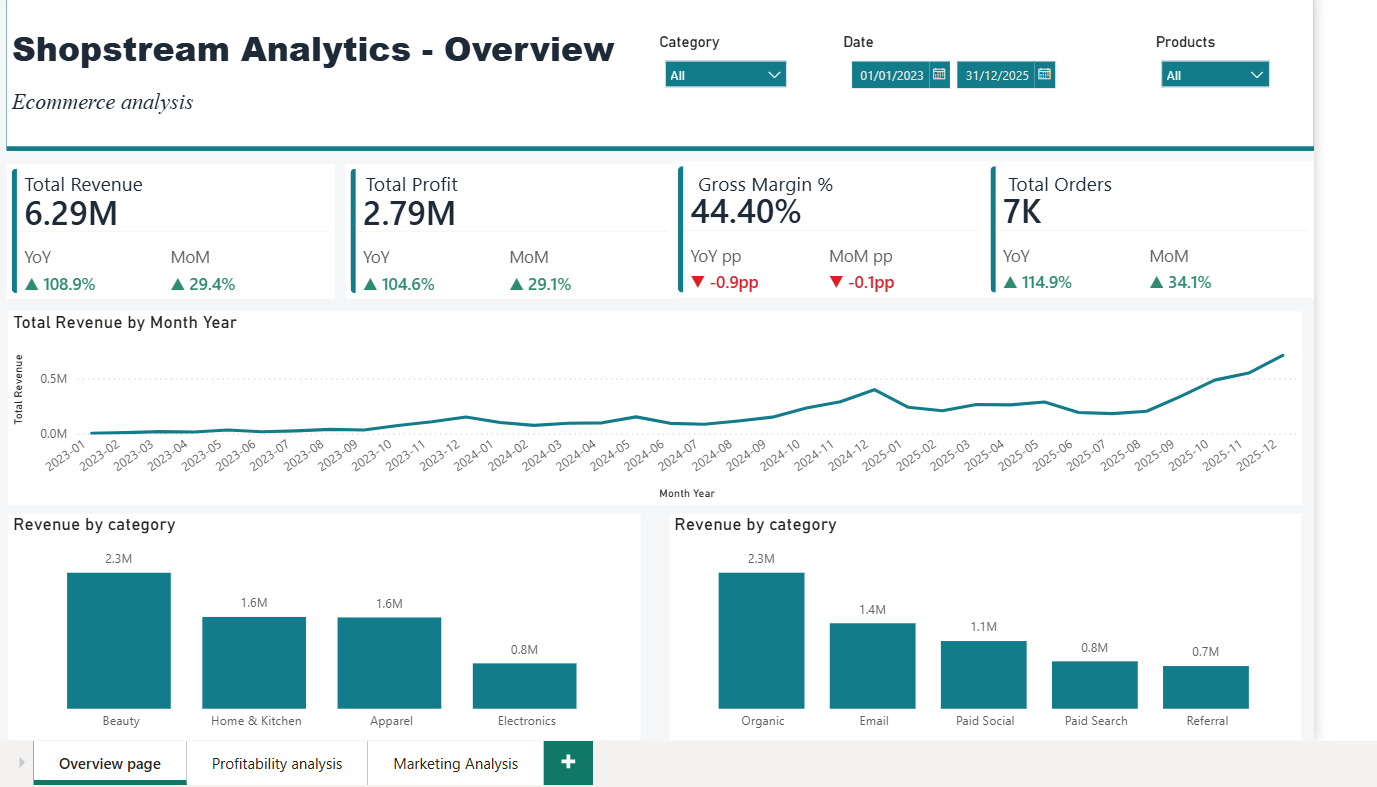

Layout of this report page (visuals, bound fields, positions):
{"tool":"powerbi","page":{"name":"Overview page","canvas":[1280,720],"ordinal":0},"visuals":[{"type":"cardVisual","title":"Total Revenue","fields":{"Data":["_Measures.Total Orders"]},"box":[963.1,160.8,316.6,132.3],"z":0},{"type":"cardVisual","title":"Total Revenue","fields":{"Data":["_Measures.Gross Margin %"]},"box":[661.6,160.8,301.5,132.3],"z":1000},{"type":"cardVisual","title":"Total Revenue","fields":{"Data":["_Measures.Total Profit"]},"box":[345,162.5,316.6,130.6],"z":2000},{"type":"cardVisual","title":"Total Revenue","fields":{"Data":["_Measures.Total Revenue"]},"box":[18.4,162.5,316.6,130.6],"z":3000},{"type":"shape","box":[18.6,0,1261.4,150],"z":4000},{"type":"textbox","box":[30.2,163.8,141.7,48.8],"z":5000},{"type":"shape","box":[18.6,0,1261.4,146],"z":6000},{"type":"textbox","box":[18.6,24.4,638.8,61.6],"z":7000},{"type":"textbox","box":[18.6,86,341.5,40.7],"z":8000},{"type":"textbox","box":[979.9,164.1,142.4,48.6],"z":9000},{"type":"textbox","box":[680,164.1,140.7,48.6],"z":10000},{"type":"textbox","box":[360.1,164.1,142.4,48.6],"z":11000},{"type":"clusteredColumnChart","title":" Revenue by category","fields":{"Category":["clean_categories.category_name"],"Y":["_Measures.Total Revenue"]},"box":[19.3,500.7,610.5,218.4],"z":12000},{"type":"clusteredColumnChart","title":" Revenue by category","fields":{"Y":["_Measures.Total Revenue"],"Category":["clean_orders.channel"]},"box":[657.5,500.7,610.5,218.4],"z":13000},{"type":"lineChart","fields":{"Category":["DimDate.Month Year"],"Y":["_Measures.Total Revenue"]},"box":[19.3,305.2,1248.7,187],"z":14000},{"type":"slicer","title":"Category","fields":{"Values":["clean_categories.category_name"]},"box":[643.5,36.3,138,77],"z":14001},{"type":"slicer","title":"Date","fields":{"Values":["DimDate.Date"]},"box":[820.7,36.3,239.7,77],"z":14002},{"type":"slicer","title":"Products","fields":{"Values":["clean_products.product_name"]},"box":[1121.4,36.3,124.9,77],"z":14003}]}

Visuals, with their boxes on the page's 1280x720 design canvas (x1, y1, x2, y2). These are canvas units, not pixel positions in the 1377x787 screenshot, which may show the page scaled, cropped or inside an application window:
"Total Revenue" cardVisual: locate(963, 161, 1280, 293)
"Total Revenue" cardVisual: locate(662, 161, 963, 293)
"Total Revenue" cardVisual: locate(345, 162, 662, 293)
"Total Revenue" cardVisual: locate(18, 162, 335, 293)
shape: locate(19, 0, 1280, 150)
textbox: locate(30, 164, 172, 213)
shape: locate(19, 0, 1280, 146)
textbox: locate(19, 24, 657, 86)
textbox: locate(19, 86, 360, 127)
textbox: locate(980, 164, 1122, 213)
textbox: locate(680, 164, 821, 213)
textbox: locate(360, 164, 502, 213)
" Revenue by category" clusteredColumnChart: locate(19, 501, 630, 719)
" Revenue by category" clusteredColumnChart: locate(658, 501, 1268, 719)
lineChart - DimDate.Month Year x _Measures.Total Revenue: locate(19, 305, 1268, 492)
"Category" slicer: locate(644, 36, 782, 113)
"Date" slicer: locate(821, 36, 1060, 113)
"Products" slicer: locate(1121, 36, 1246, 113)
